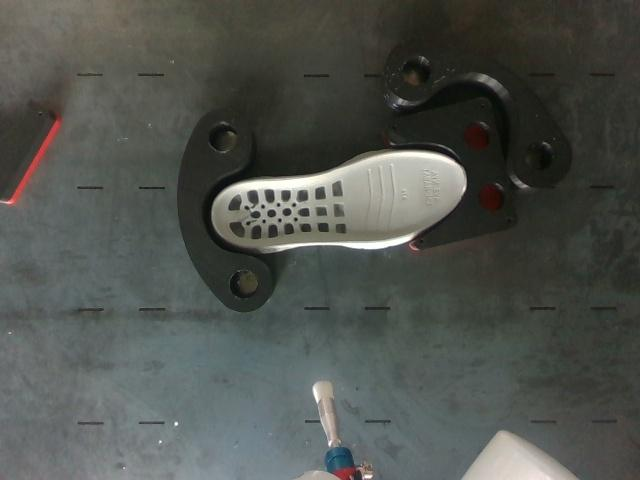shoes: (213, 152, 466, 246)
